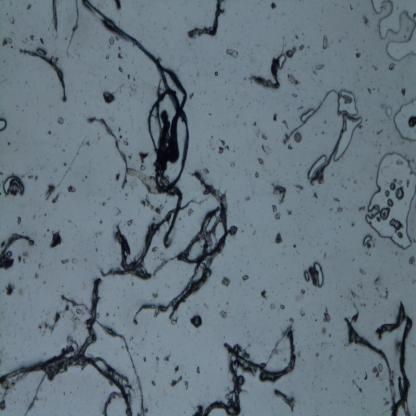Air bubble: (366, 148, 416, 248), (369, 0, 416, 61), (333, 116, 363, 163), (393, 96, 416, 142), (338, 89, 358, 117), (307, 155, 327, 180), (314, 260, 325, 289), (300, 108, 315, 122), (390, 216, 402, 233), (1, 176, 12, 194), (379, 206, 391, 221), (394, 186, 404, 200), (276, 54, 286, 68), (0, 117, 9, 130), (385, 107, 393, 117), (363, 235, 371, 242)
Background material: (272, 387, 296, 414), (36, 313, 62, 337), (272, 183, 287, 205), (284, 44, 298, 62), (309, 264, 319, 289), (50, 229, 63, 248), (346, 283, 360, 300), (371, 362, 385, 379), (351, 303, 362, 324), (44, 183, 57, 200), (102, 90, 116, 105), (5, 280, 16, 298), (318, 323, 332, 337), (286, 72, 300, 86), (225, 47, 240, 60), (272, 204, 282, 222), (323, 305, 332, 325), (219, 140, 231, 154), (170, 376, 184, 388), (357, 264, 368, 279), (284, 132, 293, 150), (138, 151, 150, 164), (274, 231, 283, 247), (329, 191, 342, 202), (193, 403, 204, 416), (112, 170, 123, 182), (382, 287, 391, 301), (2, 36, 13, 47), (221, 276, 231, 288), (148, 374, 157, 387), (407, 254, 416, 267), (388, 61, 398, 72), (18, 252, 28, 263), (241, 272, 250, 284), (362, 13, 369, 28), (194, 362, 202, 375), (229, 224, 237, 237), (322, 34, 328, 51), (374, 276, 382, 288), (282, 118, 290, 130), (260, 288, 268, 300), (314, 62, 326, 70), (262, 146, 271, 156), (61, 257, 70, 267), (357, 203, 366, 213), (108, 36, 116, 47), (115, 0, 122, 12), (8, 14, 15, 26), (51, 193, 60, 202), (294, 183, 304, 191), (270, 0, 278, 10), (57, 116, 65, 126), (297, 288, 306, 296), (354, 51, 362, 60), (67, 185, 77, 192), (164, 354, 171, 364), (220, 310, 227, 320), (258, 156, 265, 166), (400, 86, 406, 97), (118, 63, 124, 74), (152, 289, 158, 300), (212, 68, 220, 76), (38, 37, 46, 45), (254, 170, 260, 180), (184, 380, 189, 392), (272, 113, 278, 123), (270, 302, 276, 312), (117, 50, 123, 60), (337, 206, 344, 214), (262, 132, 268, 141), (16, 217, 22, 226), (96, 229, 102, 237), (174, 366, 180, 374), (29, 34, 35, 42), (280, 302, 286, 310), (26, 3, 32, 10), (314, 188, 318, 197)
Cellulose filter fibre: (133, 168, 233, 328), (62, 295, 146, 414), (0, 351, 132, 414), (203, 332, 296, 416), (345, 316, 397, 412), (376, 301, 412, 411), (112, 218, 172, 274), (87, 112, 128, 191), (19, 50, 66, 102), (77, 276, 102, 356), (188, 1, 223, 38), (164, 186, 184, 248), (249, 54, 281, 89), (2, 233, 33, 254), (51, 0, 59, 31)
Cotton: (104, 18, 191, 193)
Diatom: (191, 314, 202, 328), (294, 132, 302, 143)
